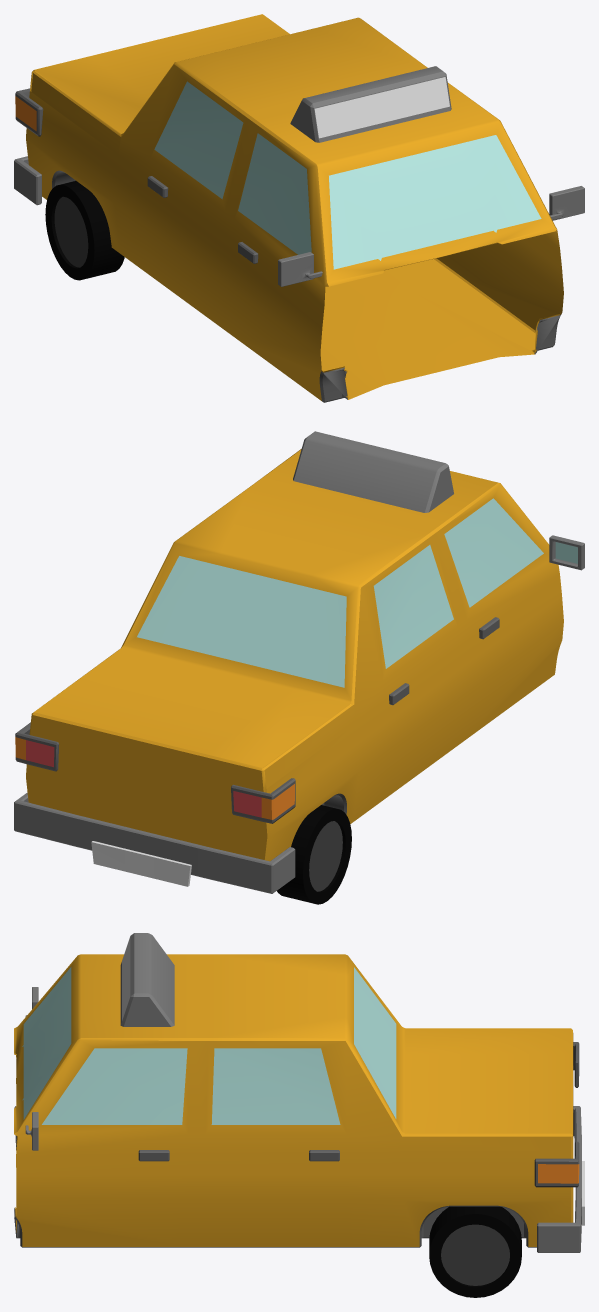
File: PugBart.fbx
The picture shows the model from 3 angles, top to bottom: view 1: azimuth 30°, elevation 25°; view 2: azimuth 150°, elevation 25°; view 3: azimuth 270°, elevation 25°; orthographic projection. The views are drawn at different scales.
Parts seen in each view (by area): view 1: BartholomewShell.InGame; view 2: BartholomewShell.InGame; view 3: BartholomewShell.InGame.
Part boxes in pixels (x1,y1,x2,y2): BartholomewShell.InGame: (14, 14, 584, 402); BartholomewShell.InGame: (14, 431, 584, 904); BartholomewShell.InGame: (14, 933, 584, 1297).
Size of the model in its own units: 264 by 241 by 454.
